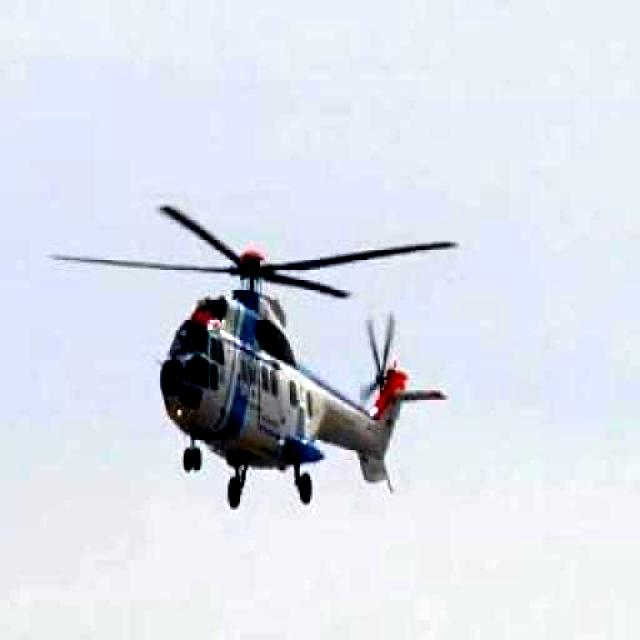drone: (18, 181, 486, 531)
